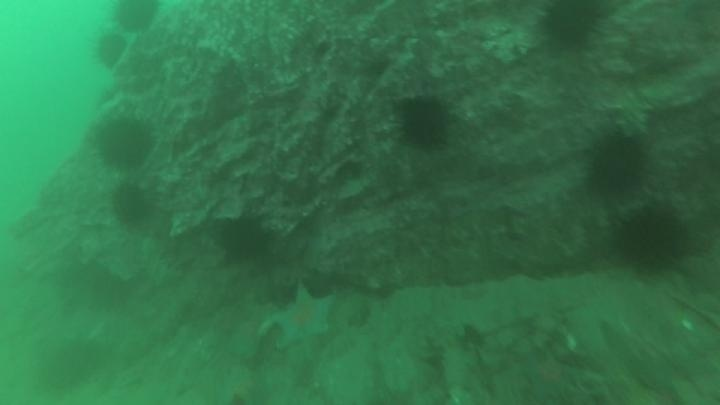echinus: (611, 203, 690, 274), (582, 128, 652, 200), (91, 111, 158, 173), (37, 336, 104, 393), (392, 92, 454, 151), (537, 1, 608, 52), (216, 213, 273, 264), (109, 180, 155, 228), (110, 1, 162, 36), (92, 30, 130, 71)
holothurian: (606, 88, 655, 140)
starfish: (268, 281, 338, 352), (517, 349, 580, 404)
